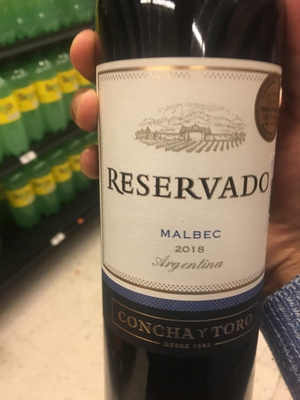reservado malbec: (91, 4, 281, 400)
